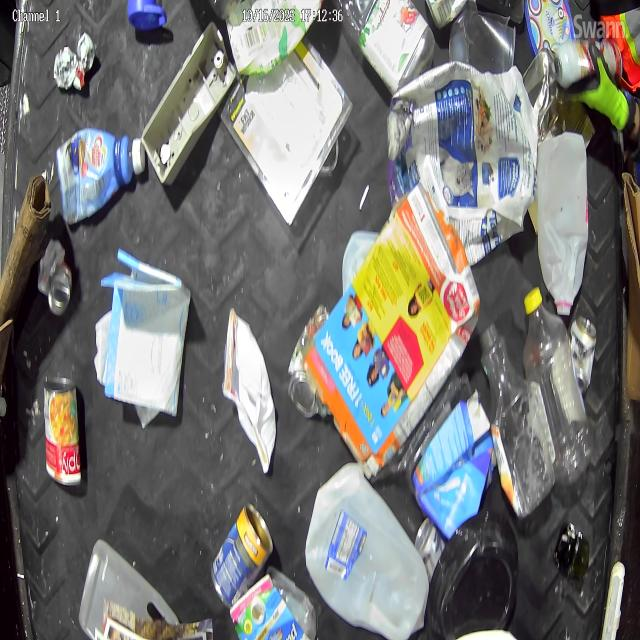can: (207, 506, 278, 616), (44, 374, 82, 488), (36, 238, 73, 316), (569, 306, 603, 386)
milk_jug: (304, 458, 428, 640), (536, 138, 594, 319)
non_white_jug: (417, 393, 496, 532)
plastic_bottle: (476, 322, 560, 518), (521, 285, 599, 489), (55, 128, 146, 226)
